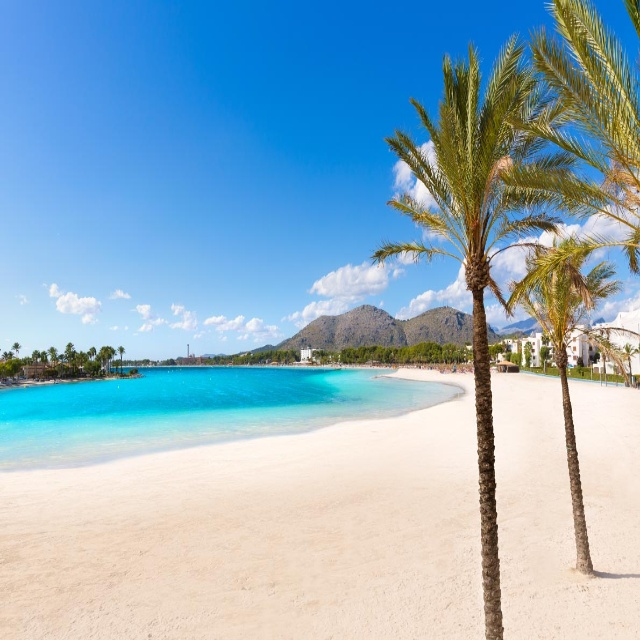linhaEspraiamento: (1, 397, 457, 499), (388, 380, 469, 427), (365, 372, 438, 390)
